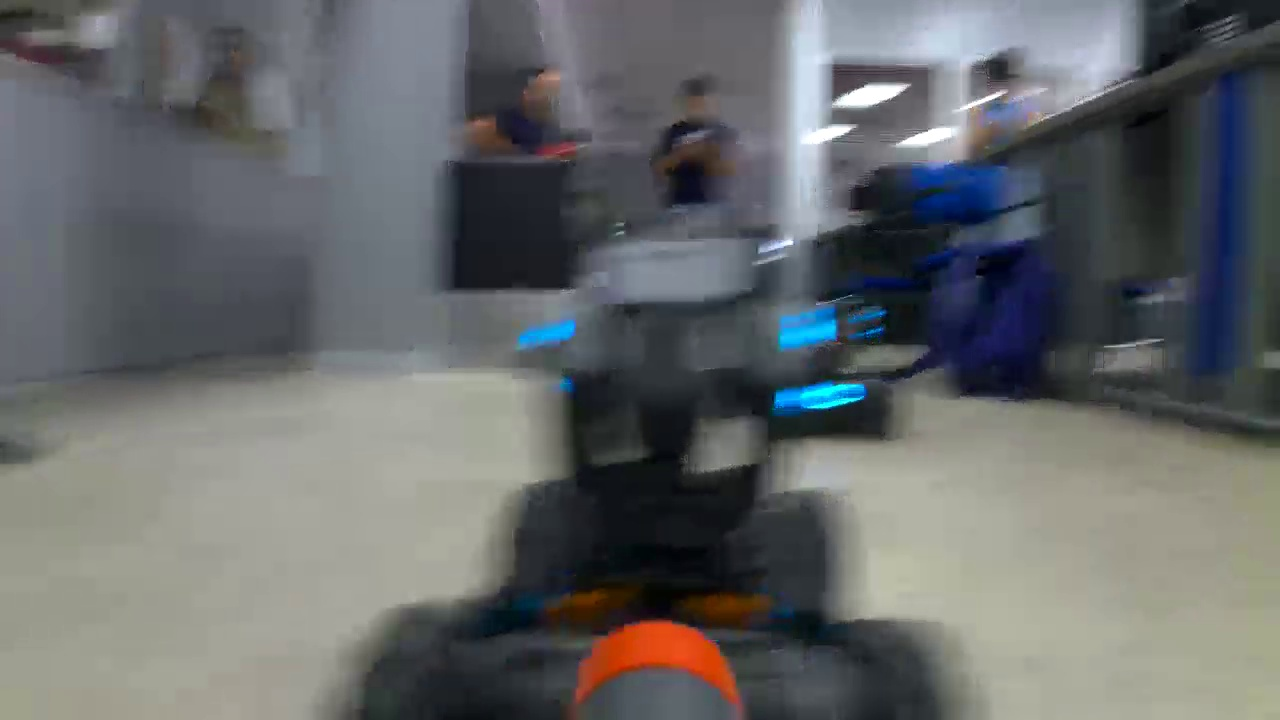robot: (347, 227, 972, 720), (723, 291, 929, 452)
